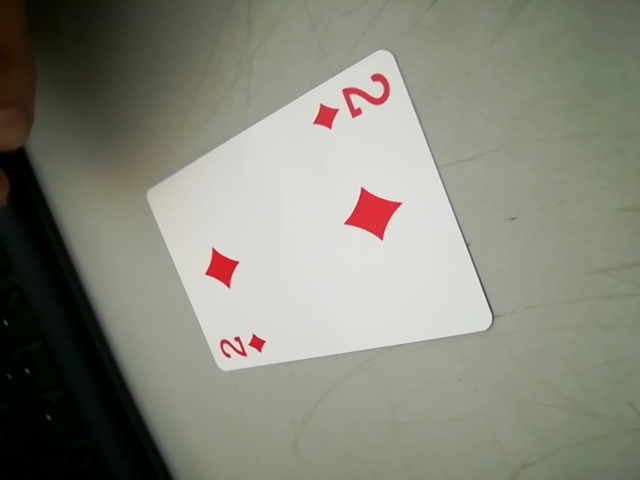fk 2: (304, 66, 397, 135), (213, 324, 275, 371)
